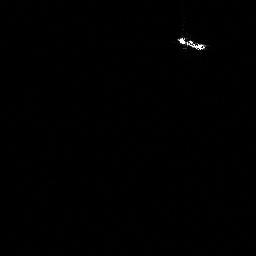ship: (174, 34, 209, 52)
